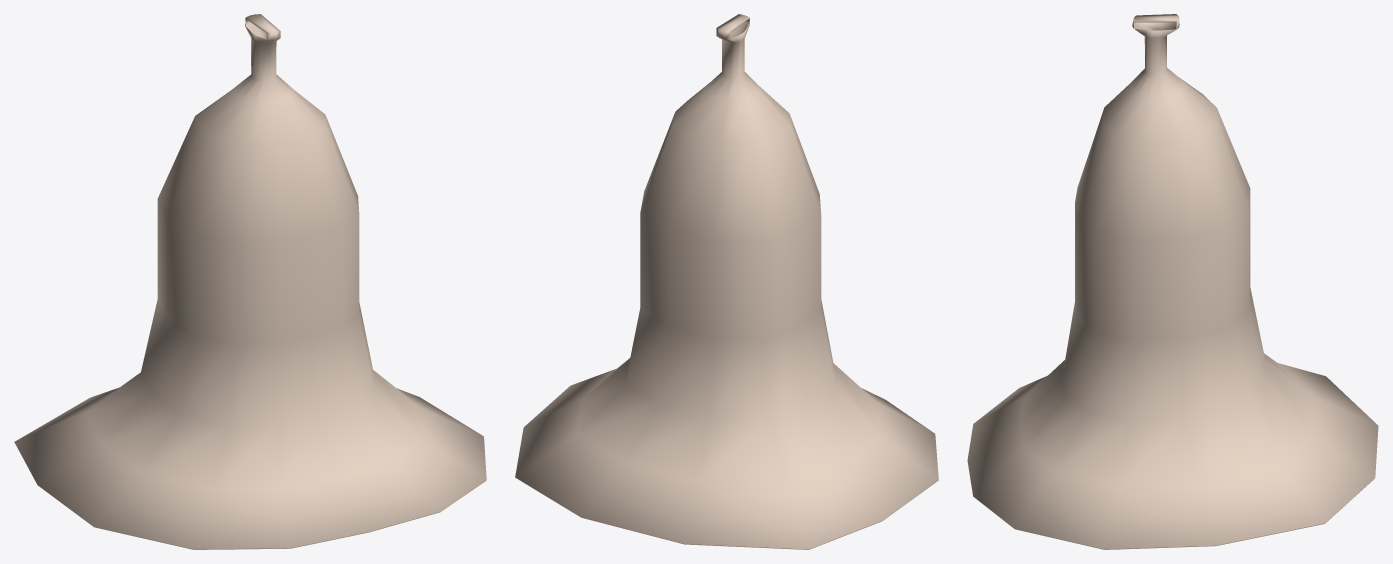
File: Low_Poly_Pirate_Ship_Bell.glb
3 renders of one model, left to right at view 1: azimuth 30°, elevation 25°; view 2: azimuth 150°, elevation 25°; view 3: azimuth 270°, elevation 25°, orthographic. The views are drawn at different scales.
Parts seen in each view (by area): view 1: RoadKillOut_Default Material_0; view 2: RoadKillOut_Default Material_0; view 3: RoadKillOut_Default Material_0.
Part boxes in pixels (x1,y1,x2,y2): RoadKillOut_Default Material_0: (14, 14, 486, 549); RoadKillOut_Default Material_0: (515, 14, 938, 549); RoadKillOut_Default Material_0: (967, 14, 1378, 549).
Bounding box in the file's own units: 4.18 × 4.58 × 3.9.
